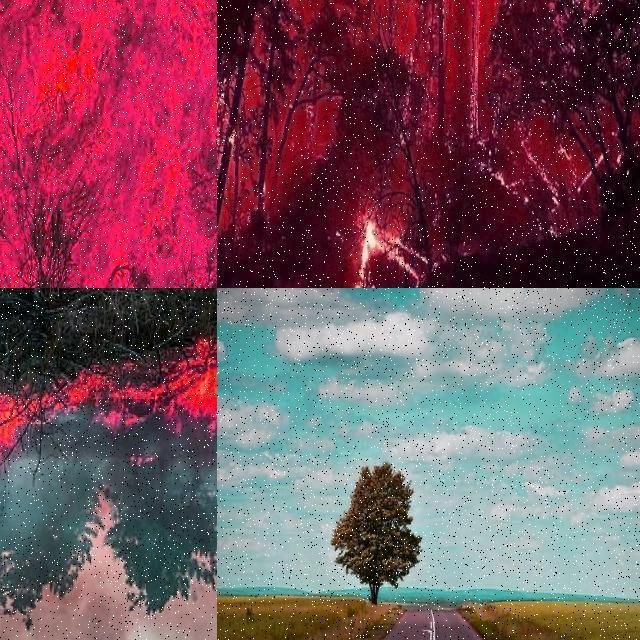tree: (218, 1, 330, 280), (484, 0, 640, 188), (0, 0, 78, 288), (109, 452, 217, 620), (402, 0, 490, 188), (332, 456, 423, 604), (334, 0, 404, 116), (217, 0, 237, 244), (218, 0, 242, 86)
